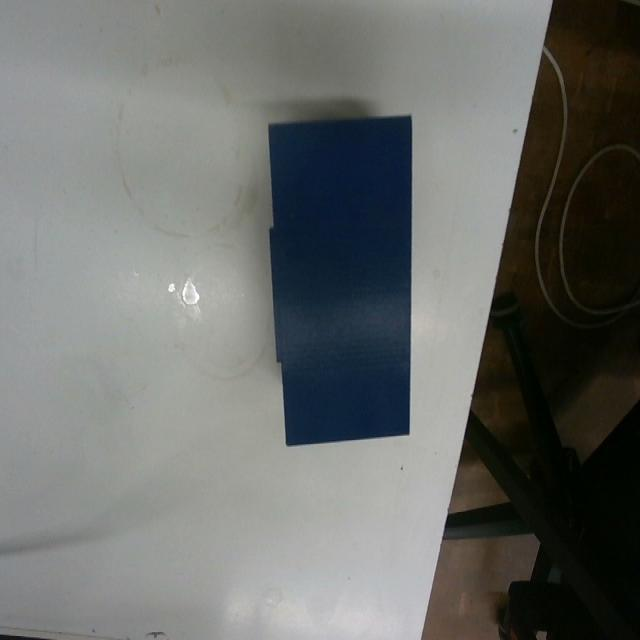Blue Cuboid: (264, 111, 414, 448)
